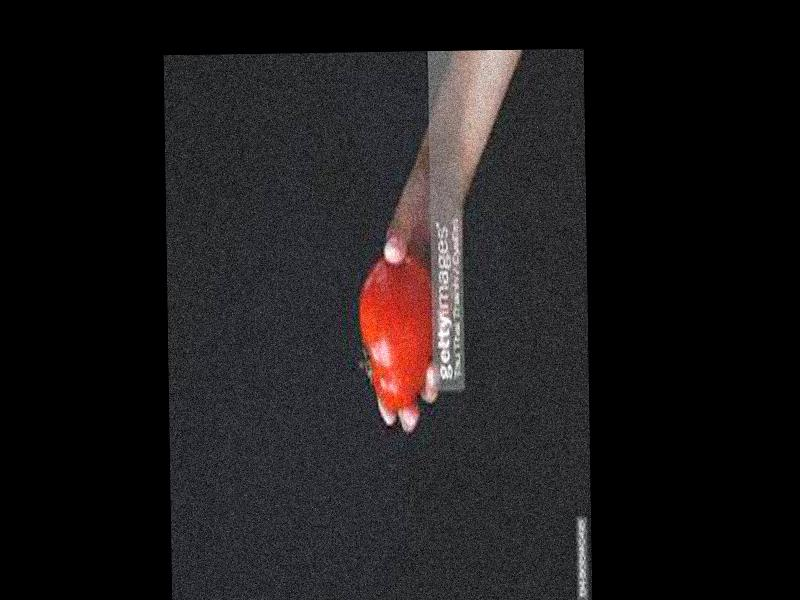Tomato: (358, 258, 436, 416)
